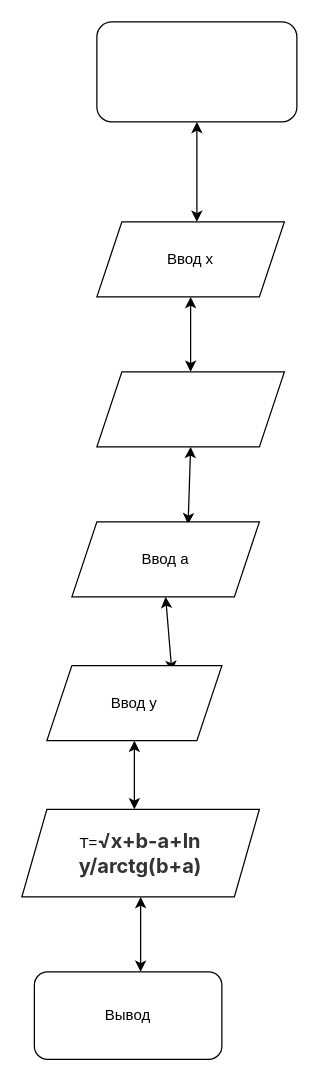
The diagram is 319 pixels wide and 1081 high, and some of its shapes have lost their labels. Each missing label, with the box of its shape:
Ввод b: (96, 371, 284, 447)
Начало: (96, 21, 297, 122)
